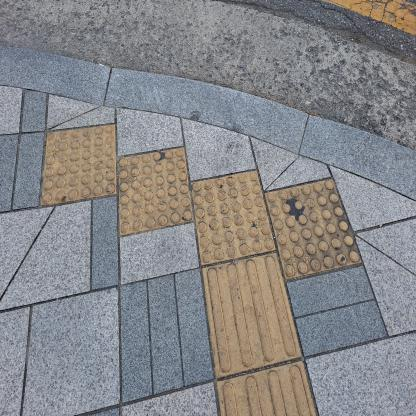podotacti: (32, 114, 373, 415)
